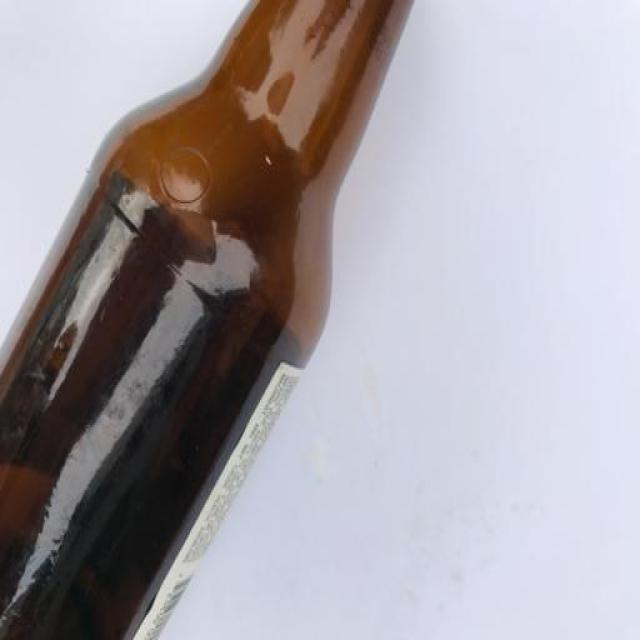glass: (0, 0, 414, 640)
